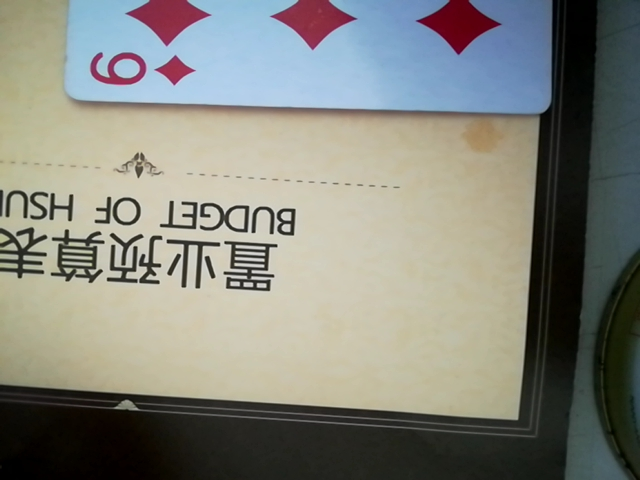fk 6: (62, 0, 560, 107)
